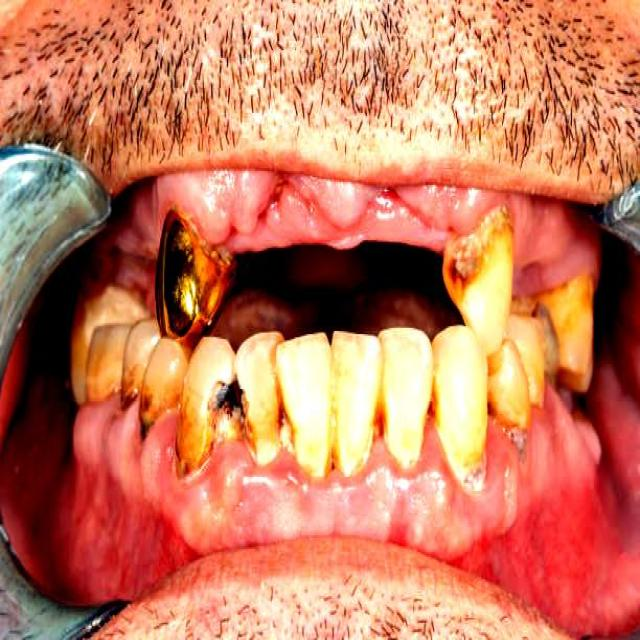caries: (203, 366, 255, 454), (444, 240, 480, 305), (503, 414, 535, 468), (134, 394, 162, 448), (118, 371, 138, 416)
